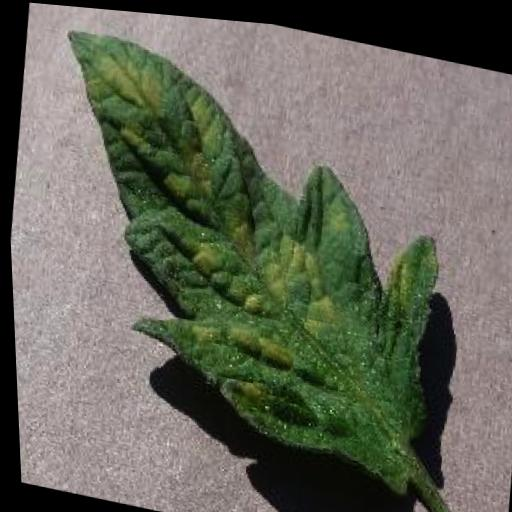Leaf Mold: (21, 23, 460, 492)
